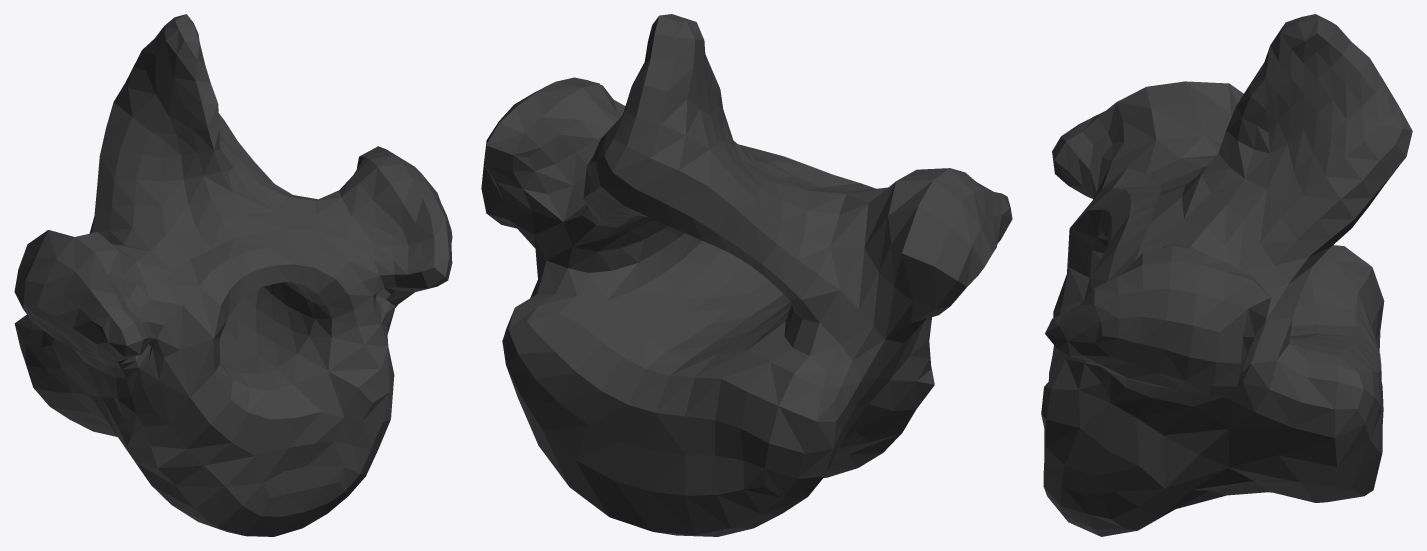
The picture shows the model from 3 angles, left to right: view 1: azimuth 30°, elevation 25°; view 2: azimuth 150°, elevation 25°; view 3: azimuth 270°, elevation 25°; orthographic projection. The views are drawn at different scales.
Parts seen in each view (by area): view 1: T10; view 2: T10; view 3: T10.
Boxes of the visible parts, box(x1,y1,x2,y2) form: T10: box(14, 14, 452, 536); T10: box(481, 14, 1012, 536); T10: box(1041, 14, 1412, 536).
Bounding box in the file's own units: 2.18 × 2.29 × 1.5.
1 material, 1 textured.
